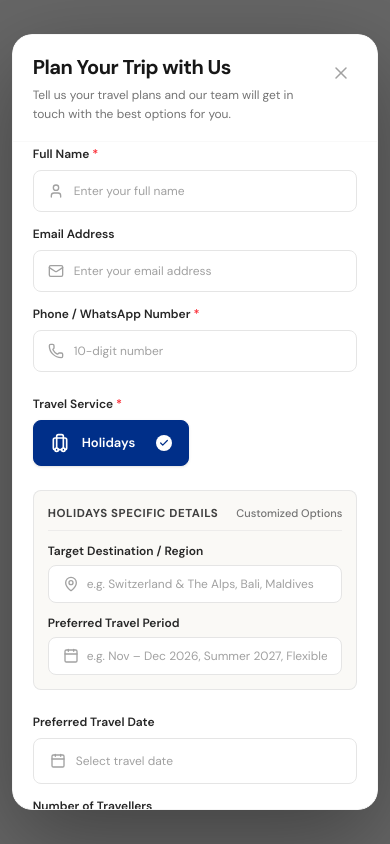
Test: public capture › keeps form values on a failed submission and offers configured WhatsApp fallback
Type "  Ahmed Ali  " into the field labelled "Full Name *" at (208, 191), box [74,183,342,199]
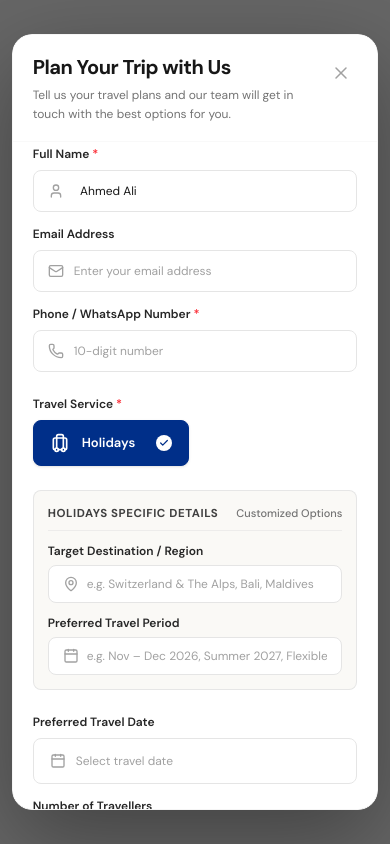
Type "9876543210" into the field labelled "Phone / WhatsApp Number *" at (208, 351), box [74,343,342,359]
(page scrolled)
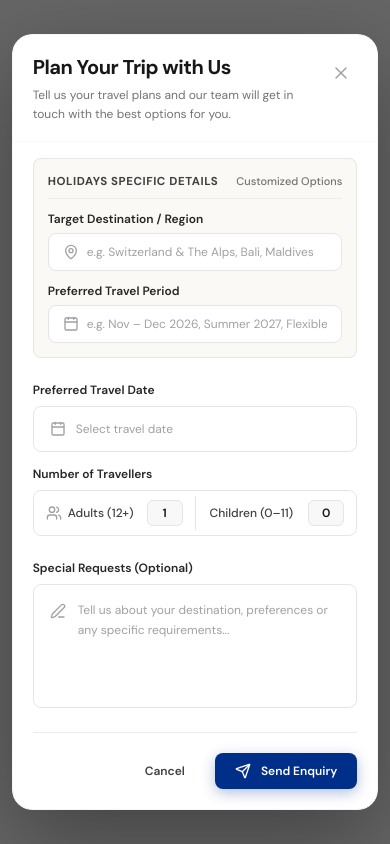
Click the button with aria-label "Submit Travel Enquiry" at (286, 771), box [215,753,357,789]
(page scrolled)
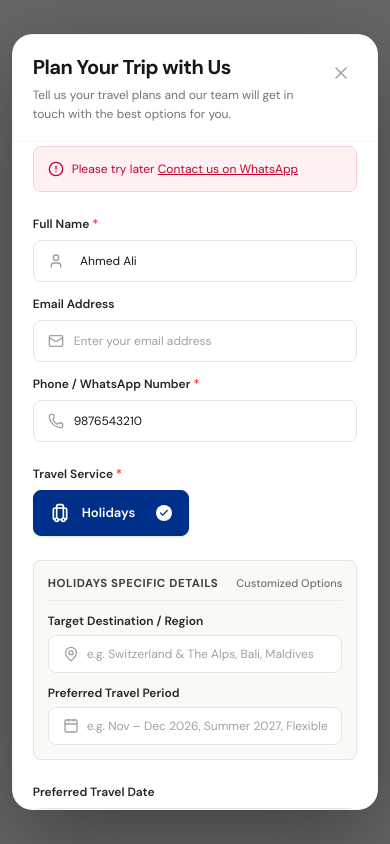
Expected: the text "Please try later Contact us on WhatsApp" is shown, [72,161,298,177]
